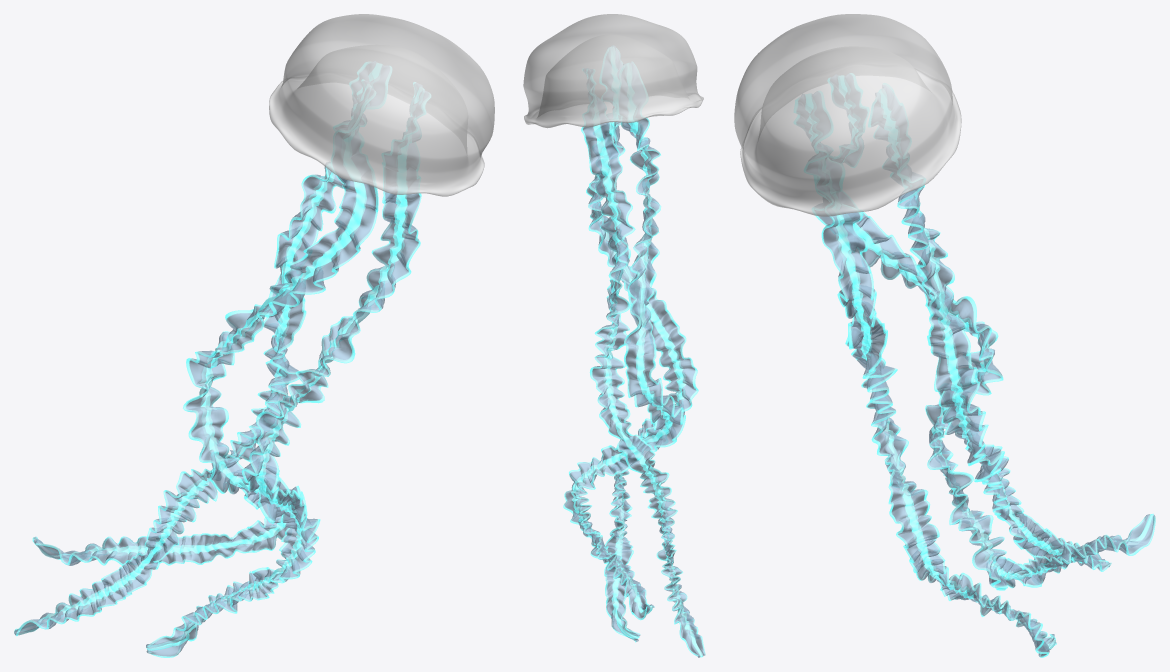
File: jellyfish_glb.glb
3 views of the same model, side by side, from view 1: azimuth 30°, elevation 25°; view 2: azimuth 150°, elevation 25°; view 3: azimuth 270°, elevation 25° (orthographic). The views are drawn at different scales.
Visible parts, largest first — view 1: Cap, tentacle.002, tentacle.001, tentacle.000; view 2: Cap, tentacle.002, tentacle.000, tentacle.001; view 3: Cap, tentacle.002, tentacle.001, tentacle.000.
Part boxes in pixels (<box>): Cap: <box>269,14,494,196</box>; tentacle.002: <box>32,80,378,565</box>; tentacle.001: <box>146,82,430,657</box>; tentacle.000: <box>14,61,391,636</box>; Cap: <box>523,14,703,128</box>; tentacle.002: <box>563,62,685,620</box>; tentacle.000: <box>581,68,705,657</box>; tentacle.001: <box>586,46,698,642</box>; Cap: <box>734,14,961,216</box>; tentacle.002: <box>812,73,1155,590</box>; tentacle.001: <box>794,91,1056,657</box>; tentacle.000: <box>868,83,1111,571</box>.
Bounding box in the file's own units: 6.76 × 12.81 × 7.18.
